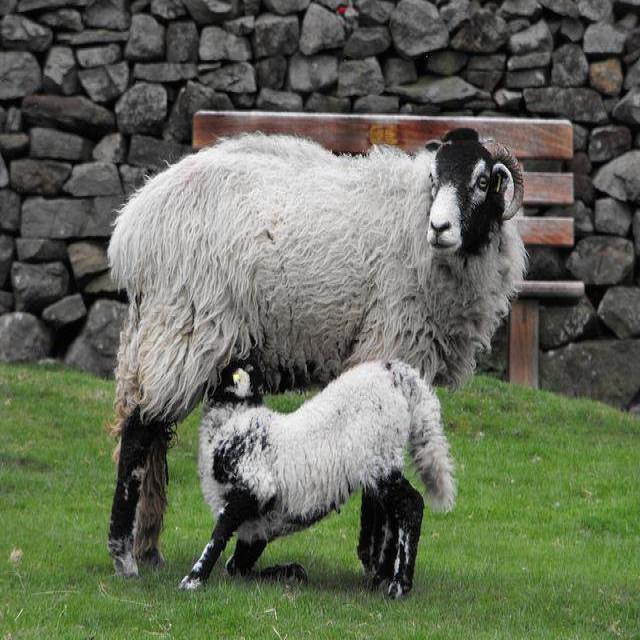Sheep: (105, 132, 525, 581), (173, 356, 459, 604)
